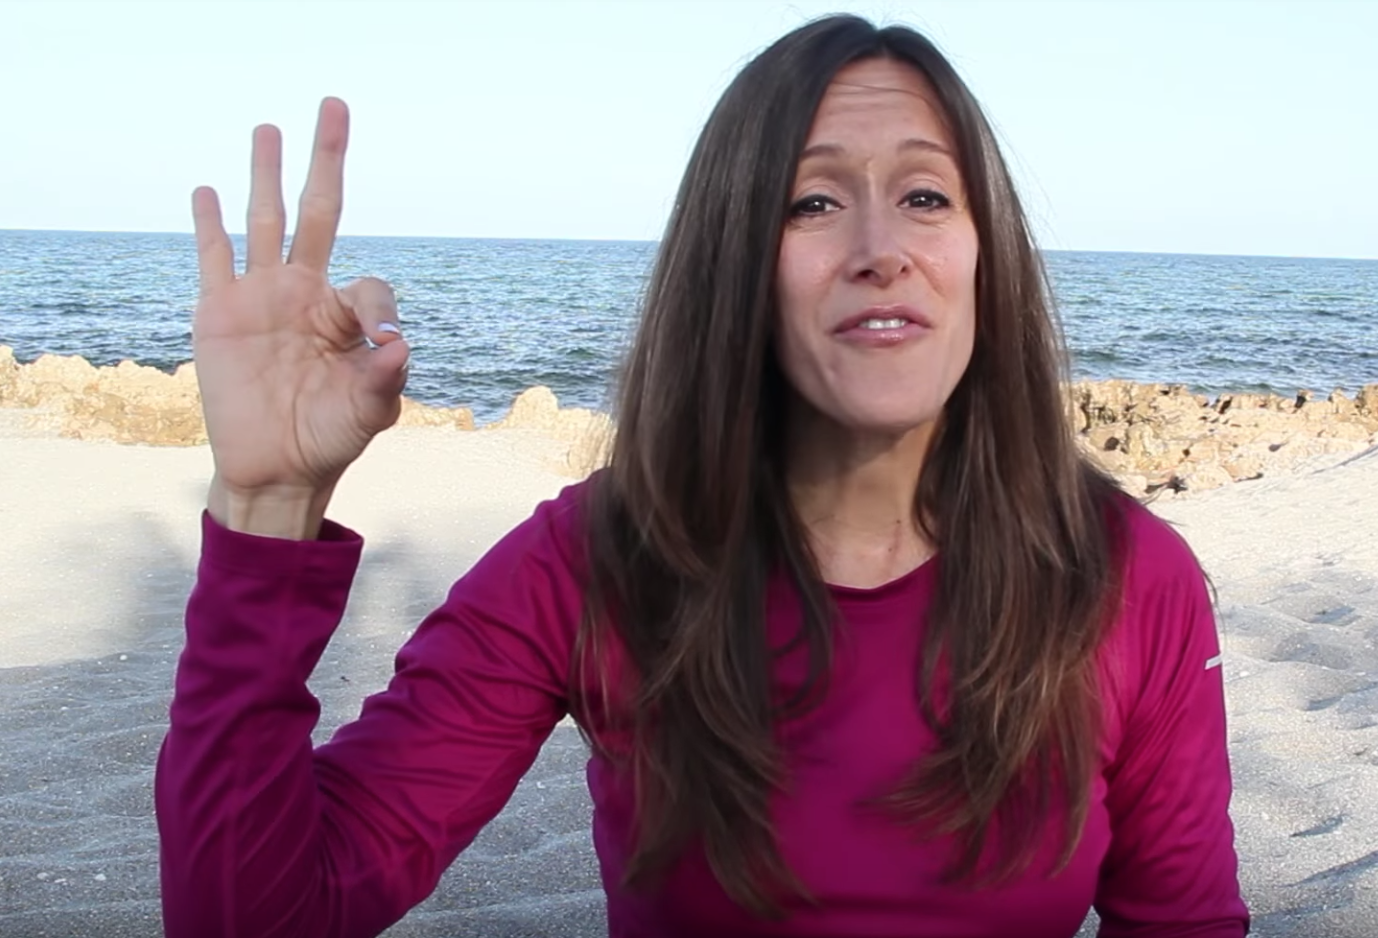f: (168, 90, 426, 515)
